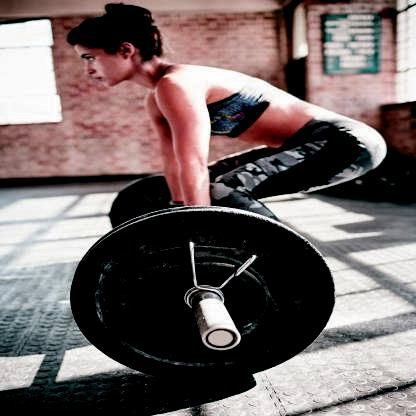Barbell: (196, 323, 242, 354)
